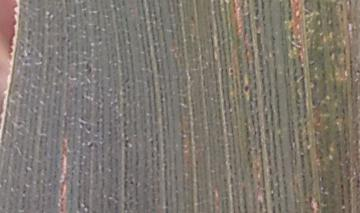tarspot: (242, 82, 249, 93), (340, 182, 345, 190)
